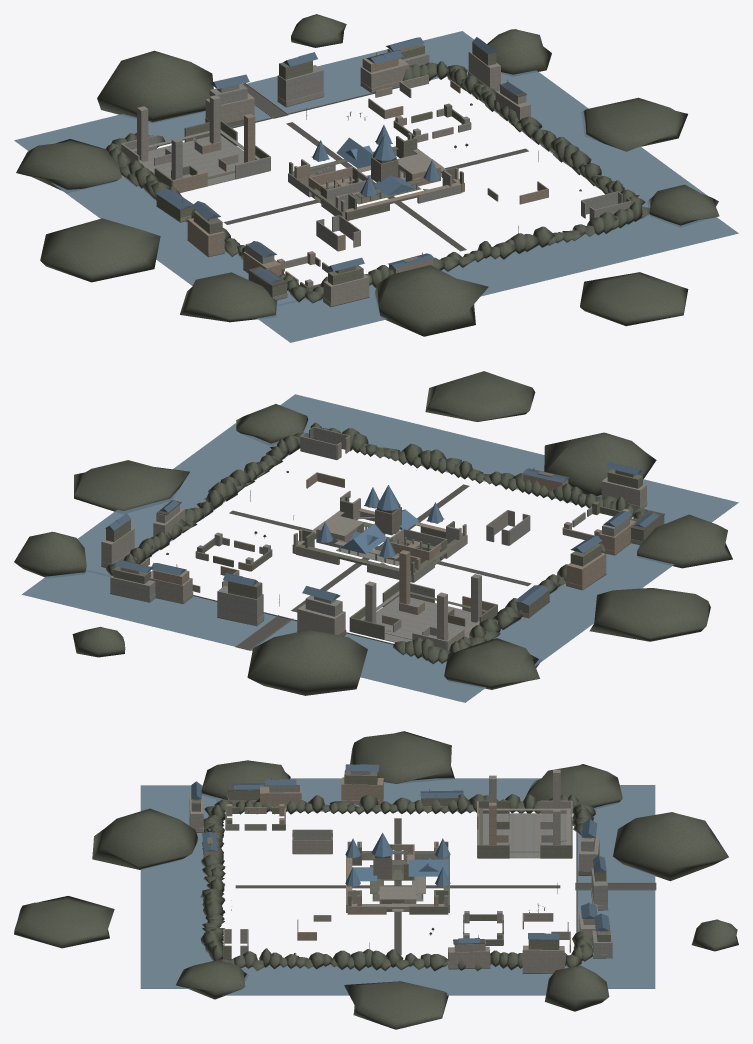
Rendered from takadai-lod2.glb.
3 renders of one model, top to bottom at view 1: azimuth 30°, elevation 25°; view 2: azimuth 150°, elevation 25°; view 3: azimuth 270°, elevation 25°, orthographic. The views are drawn at different scales.
Parts seen in each view (by area): view 1: HB_takadai_LOD2_terrain, HB_takadai_LOD2_water, HB_takadai_LOD2_wall, HB_takadai_LOD2_wall_cool, HB_takadai_LOD2_LANDMARK_1_wall_cool, HB_takadai_LOD2_wall_weathered, HB_takadai_LOD2_wall_warm, HB_takadai_LOD2_roof, HB_takadai_LOD2_LANDMARK_0_accent, HB_takadai_LOD2_LANDMARK_0_wall_weathered, HB_takadai_LOD2_road, HB_takadai_LOD2_LANDMARK_1_wall (+6 smaller); view 2: HB_takadai_LOD2_terrain, HB_takadai_LOD2_water, HB_takadai_LOD2_wall_cool, HB_takadai_LOD2_wall, HB_takadai_LOD2_wall_weathered, HB_takadai_LOD2_LANDMARK_1_wall_cool, HB_takadai_LOD2_wall_warm, HB_takadai_LOD2_roof, HB_takadai_LOD2_LANDMARK_0_wall, HB_takadai_LOD2_LANDMARK_0_accent, HB_takadai_LOD2_road, HB_takadai_LOD2_LANDMARK_0_wall_weathered (+6 smaller); view 3: HB_takadai_LOD2_terrain, HB_takadai_LOD2_water, HB_takadai_LOD2_wall, HB_takadai_LOD2_LANDMARK_1_wall_cool, HB_takadai_LOD2_roof, HB_takadai_LOD2_wall_cool, HB_takadai_LOD2_wall_weathered, HB_takadai_LOD2_road, HB_takadai_LOD2_wall_warm, HB_takadai_LOD2_LANDMARK_0_accent, HB_takadai_LOD2_LANDMARK_0_wall_weathered, HB_takadai_LOD2_LANDMARK_0_wall (+4 smaller).
Boxes of the visible parts, <box> form: HB_takadai_LOD2_terrain: <box>16,14,719,336</box>; HB_takadai_LOD2_water: <box>14,31,738,342</box>; HB_takadai_LOD2_wall: <box>205,51,594,306</box>; HB_takadai_LOD2_wall_cool: <box>200,52,631,299</box>; HB_takadai_LOD2_LANDMARK_1_wall_cool: <box>122,130,270,185</box>; HB_takadai_LOD2_wall_weathered: <box>156,42,631,297</box>; HB_takadai_LOD2_wall_warm: <box>180,45,548,282</box>; HB_takadai_LOD2_roof: <box>156,37,523,283</box>; HB_takadai_LOD2_LANDMARK_0_accent: <box>312,125,440,196</box>; HB_takadai_LOD2_LANDMARK_0_wall_weathered: <box>289,136,463,220</box>; HB_takadai_LOD2_road: <box>223,83,528,251</box>; HB_takadai_LOD2_LANDMARK_1_wall: <box>121,95,238,173</box>; HB_takadai_LOD2_terrain: <box>14,371,732,695</box>; HB_takadai_LOD2_water: <box>22,394,738,702</box>; HB_takadai_LOD2_wall_cool: <box>101,427,642,625</box>; HB_takadai_LOD2_wall: <box>101,436,647,634</box>; HB_takadai_LOD2_wall_weathered: <box>106,427,664,635</box>; HB_takadai_LOD2_LANDMARK_1_wall_cool: <box>360,574,481,650</box>; HB_takadai_LOD2_wall_warm: <box>120,472,635,617</box>; HB_takadai_LOD2_roof: <box>105,462,661,605</box>; HB_takadai_LOD2_LANDMARK_0_wall: <box>296,498,467,569</box>; HB_takadai_LOD2_LANDMARK_0_accent: <box>317,485,443,557</box>; HB_takadai_LOD2_road: <box>229,484,531,650</box>; HB_takadai_LOD2_LANDMARK_0_wall_weathered: <box>292,495,465,581</box>; HB_takadai_LOD2_terrain: <box>14,731,738,1029</box>; HB_takadai_LOD2_water: <box>140,778,655,995</box>; HB_takadai_LOD2_wall: <box>189,796,607,973</box>; HB_takadai_LOD2_LANDMARK_1_wall_cool: <box>477,775,572,858</box>; HB_takadai_LOD2_roof: <box>191,764,609,944</box>; HB_takadai_LOD2_wall_cool: <box>223,770,612,968</box>; HB_takadai_LOD2_wall_weathered: <box>191,769,610,959</box>; HB_takadai_LOD2_road: <box>235,818,656,955</box>; HB_takadai_LOD2_wall_warm: <box>203,777,608,940</box>; HB_takadai_LOD2_LANDMARK_0_accent: <box>345,832,450,886</box>; HB_takadai_LOD2_LANDMARK_0_wall_weathered: <box>346,841,449,914</box>; HB_takadai_LOD2_LANDMARK_0_wall: <box>347,841,449,912</box>.
Size of the model in its own units: 632 by 56.5 by 662.
Materials: 13 (11 with a texture image).
